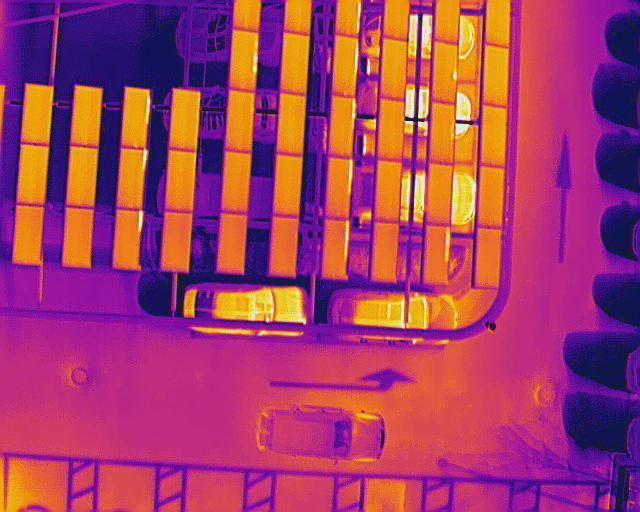Cell: (433, 42, 458, 104)
No-Anomaly: (67, 146, 98, 208), (64, 207, 94, 269), (161, 212, 192, 272), (221, 153, 251, 214), (22, 86, 52, 146), (18, 145, 47, 207), (166, 150, 195, 211), (226, 90, 254, 153), (477, 166, 505, 229), (170, 91, 200, 149), (217, 214, 246, 273), (73, 88, 101, 147), (283, 31, 308, 96), (270, 217, 297, 277), (375, 160, 401, 222), (16, 205, 43, 264), (372, 223, 399, 282), (379, 99, 404, 162), (427, 163, 452, 226), (382, 38, 407, 100), (280, 93, 304, 156), (431, 102, 455, 165), (276, 154, 300, 217), (476, 227, 500, 289), (484, 45, 508, 106), (482, 107, 505, 168)
Unclassified: (117, 148, 147, 209), (113, 209, 143, 269), (229, 31, 258, 92), (122, 88, 150, 148), (423, 225, 450, 284), (327, 157, 353, 218), (331, 97, 357, 157), (324, 219, 349, 279), (334, 37, 358, 97)
